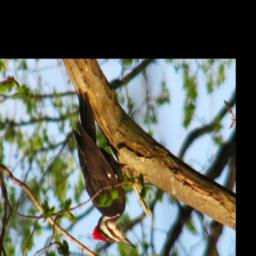Woodpecker: (71, 87, 140, 252)
